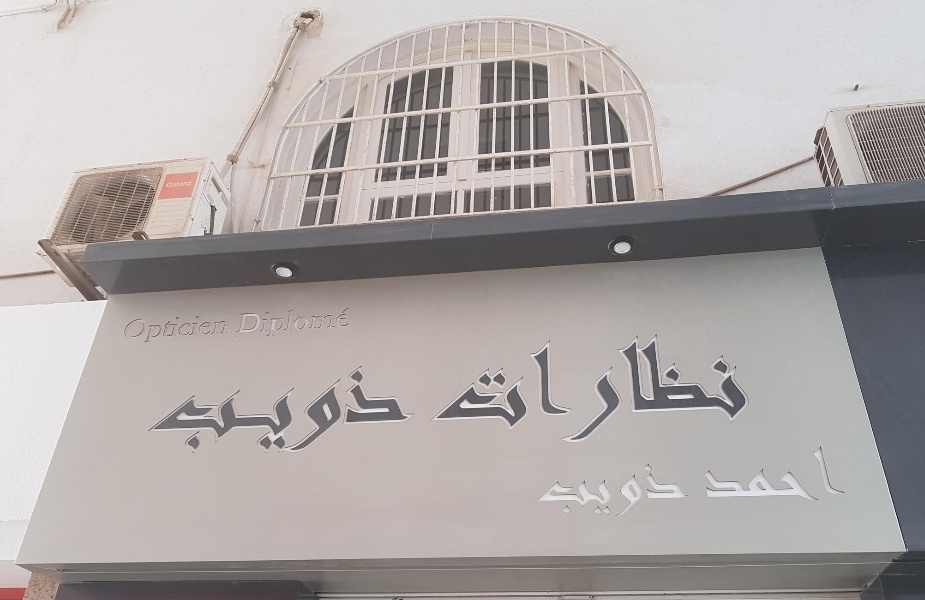text: (449, 333, 464, 444), (465, 333, 480, 444), (481, 333, 496, 444), (497, 333, 512, 444), (513, 333, 528, 444), (529, 333, 544, 444), (545, 333, 560, 444), (561, 333, 576, 444), (577, 333, 592, 444), (593, 333, 608, 444), (609, 333, 624, 444), (625, 333, 640, 444), (641, 333, 656, 444), (657, 333, 672, 444), (673, 333, 688, 444), (689, 333, 704, 444), (705, 333, 720, 444), (721, 333, 736, 444), (434, 333, 448, 444), (737, 333, 751, 444), (401, 364, 417, 454), (161, 364, 176, 454), (177, 364, 192, 454), (193, 364, 208, 454), (209, 364, 224, 454), (225, 364, 240, 454), (241, 364, 256, 454), (257, 364, 272, 454), (273, 364, 288, 454), (289, 364, 304, 454), (305, 364, 320, 454), (321, 364, 336, 454), (337, 364, 352, 454), (353, 364, 368, 454), (369, 364, 384, 454), (385, 364, 400, 454), (146, 364, 160, 454), (833, 445, 849, 503), (705, 445, 720, 503), (721, 445, 736, 503), (737, 445, 752, 503), (753, 445, 768, 503), (769, 445, 784, 503), (785, 445, 800, 503), (801, 445, 816, 503), (817, 445, 832, 503), (545, 463, 560, 517), (561, 463, 576, 517), (577, 463, 592, 517), (593, 463, 608, 517), (609, 463, 624, 517), (625, 463, 640, 517), (641, 463, 656, 517), (657, 463, 672, 517), (673, 463, 688, 517), (145, 313, 160, 347), (161, 313, 176, 347), (177, 313, 192, 347), (193, 313, 208, 347), (209, 313, 224, 347), (241, 306, 256, 340), (257, 306, 272, 340), (273, 306, 288, 340), (289, 306, 304, 340), (305, 306, 320, 340), (321, 306, 336, 340), (337, 306, 352, 340), (536, 463, 544, 517), (132, 313, 144, 347), (225, 313, 233, 347), (177, 181, 193, 189), (167, 181, 176, 189)
